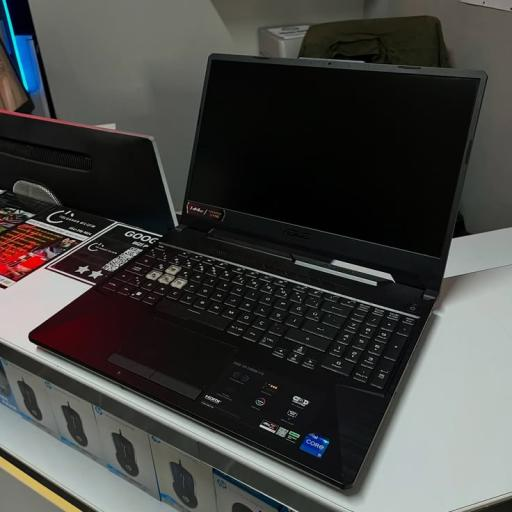corridor: (29, 55, 485, 488)
